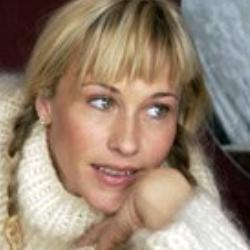face: (14, 2, 212, 222)
